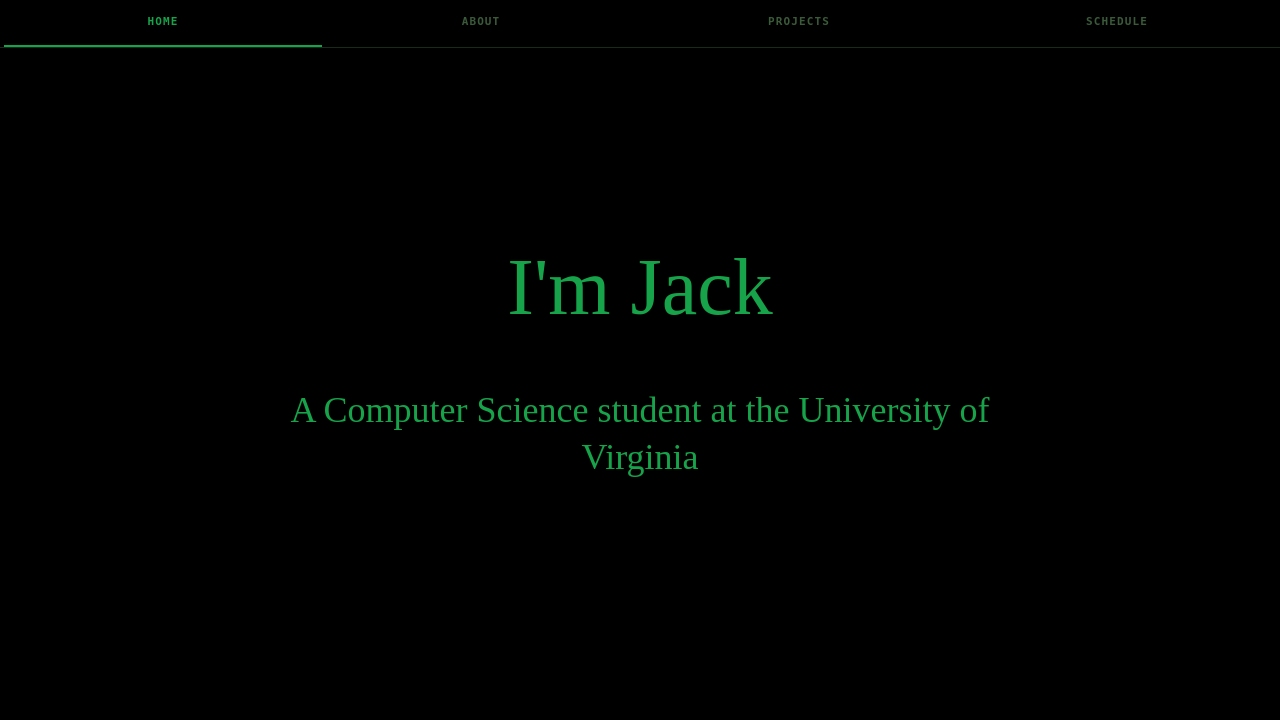
Test: MobileApp tab navigation › switches to Schedule page when SCHEDULE tab is clicked
Click the button "SCHEDULE": click(1117, 23) [958,0,1276,46]
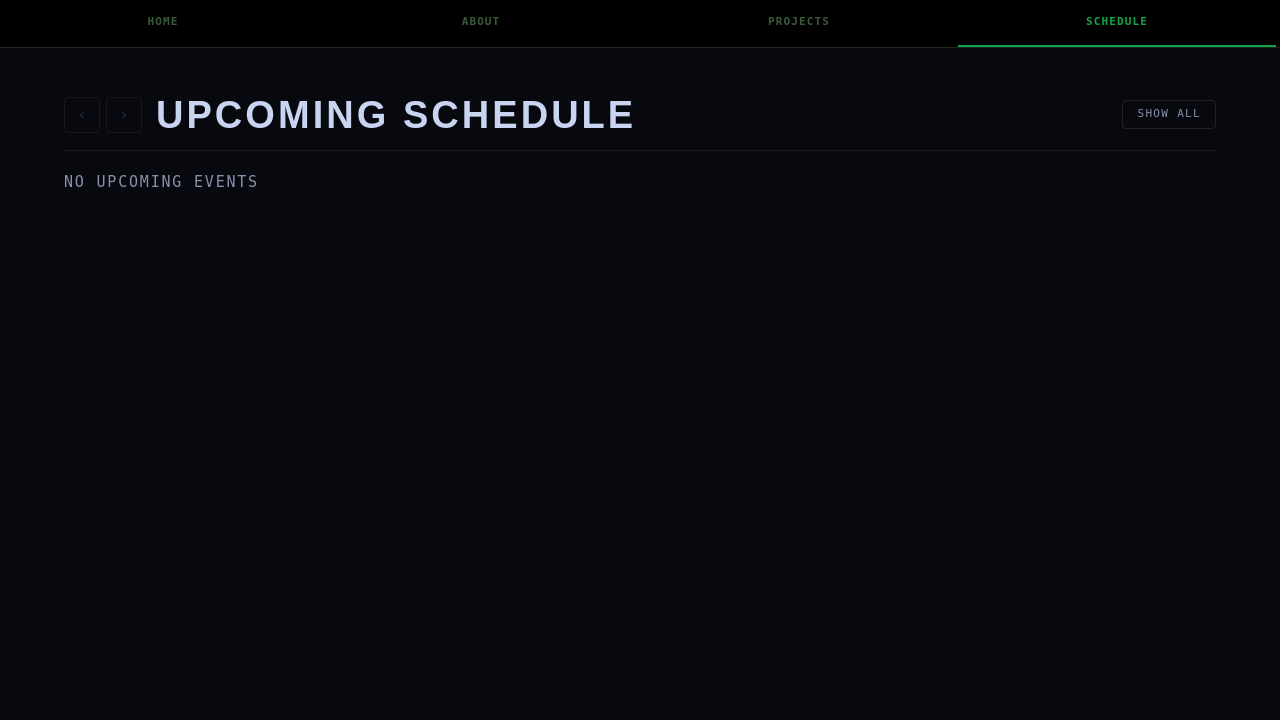
Now the text "UPCOMING SCHEDULE" is shown, box [156,96,636,134]
